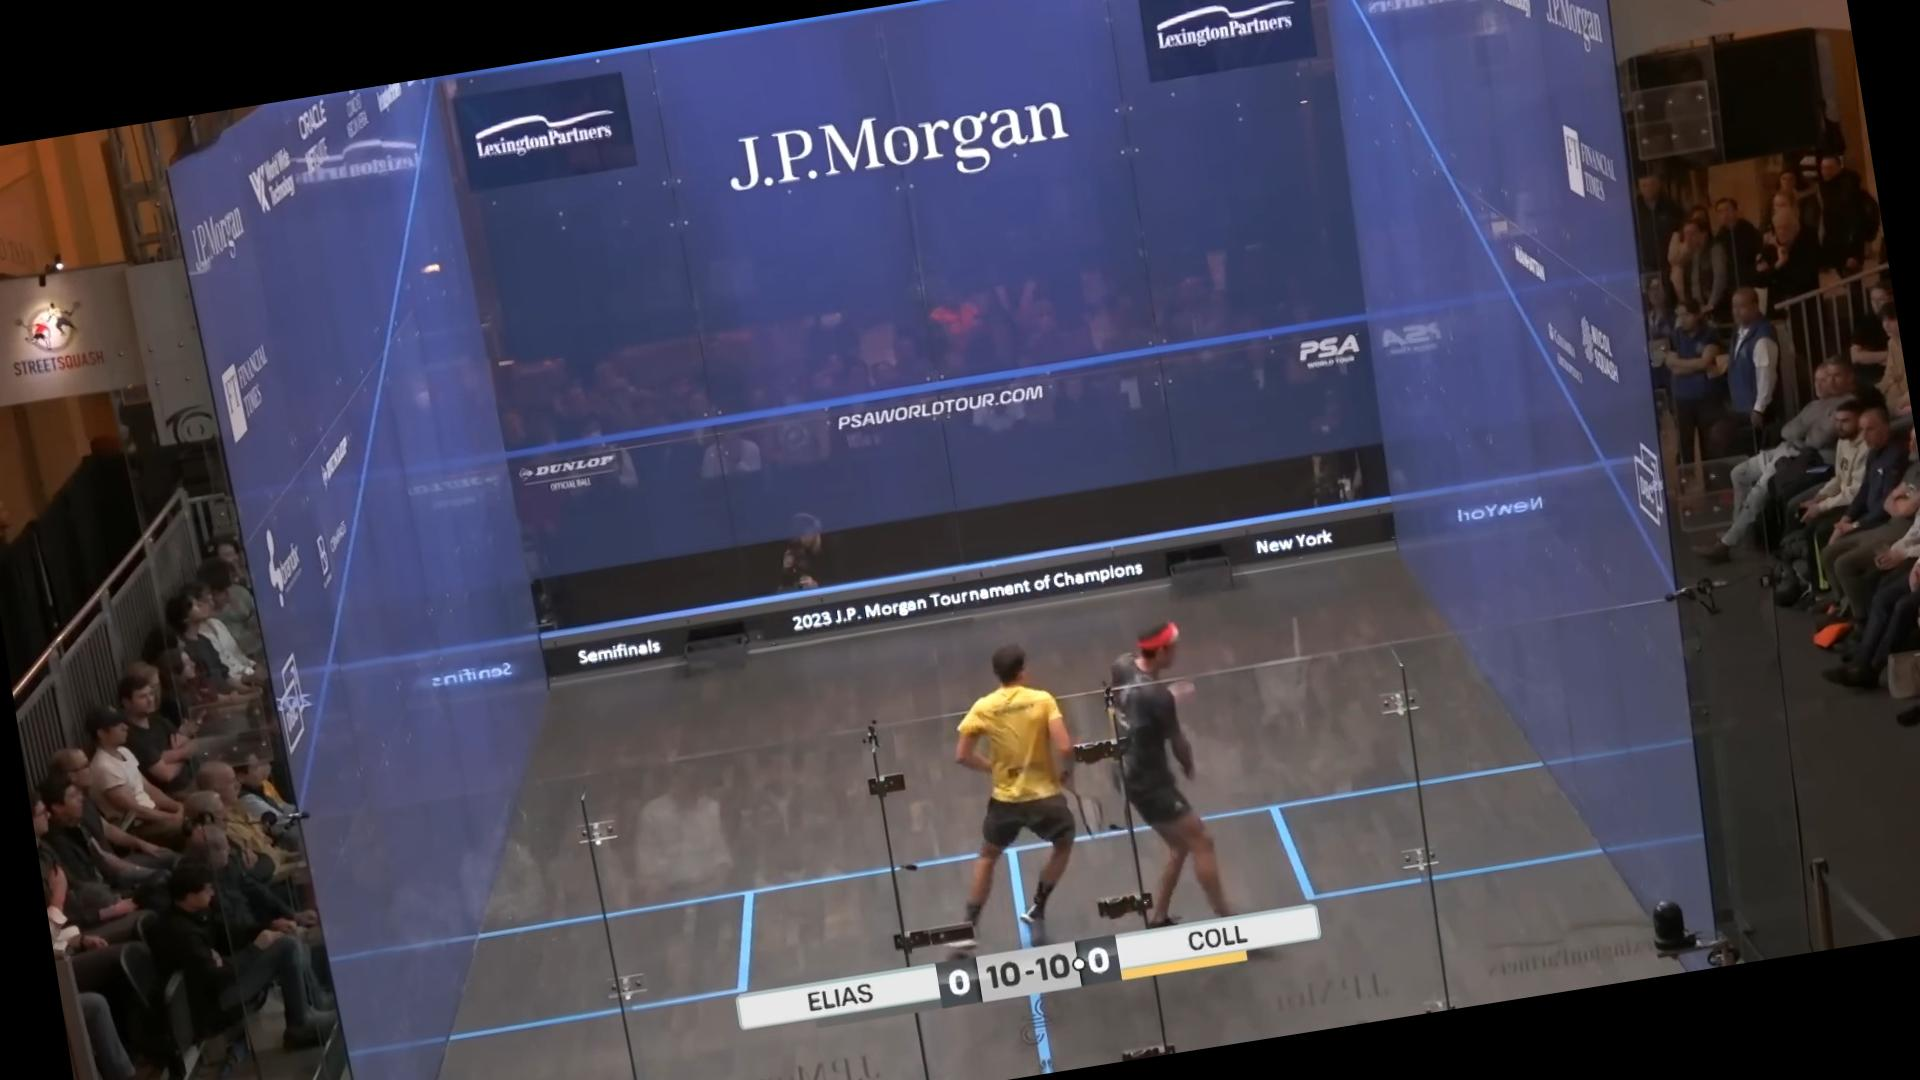Racket: (1054, 778, 1121, 852)
